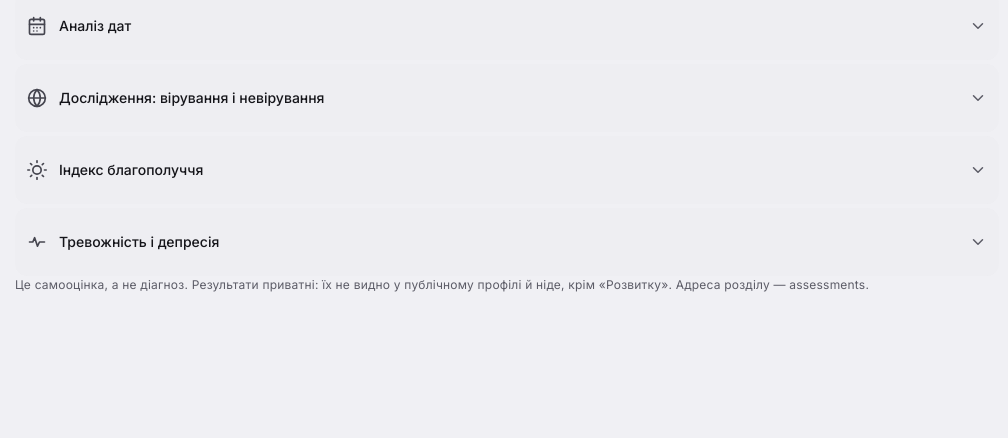
екран «Розвиток» › рядок пройденого тесту каже, коли проходили, але не показує бала
Click the button "Індекс благополуччя".
click(131, 170)  # box [27,144,987,196]
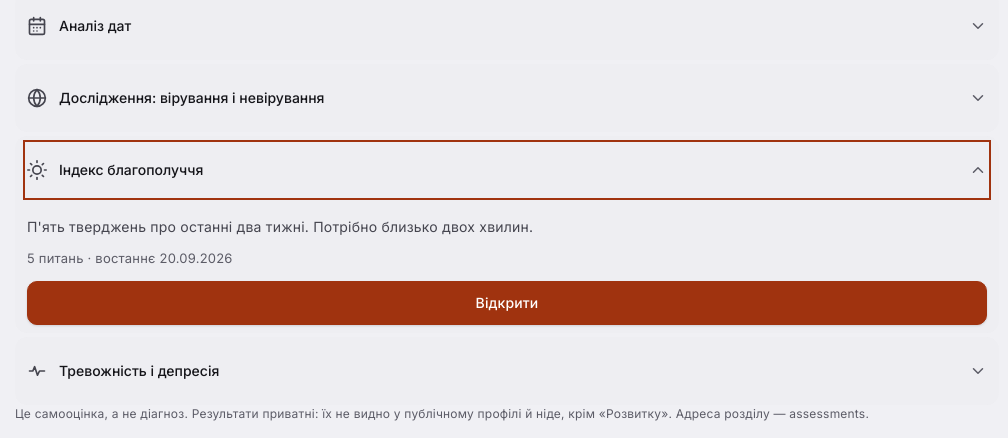
Now the text "5 питань · востаннє 20.09.2026" is shown, box [27,250,233,266]
